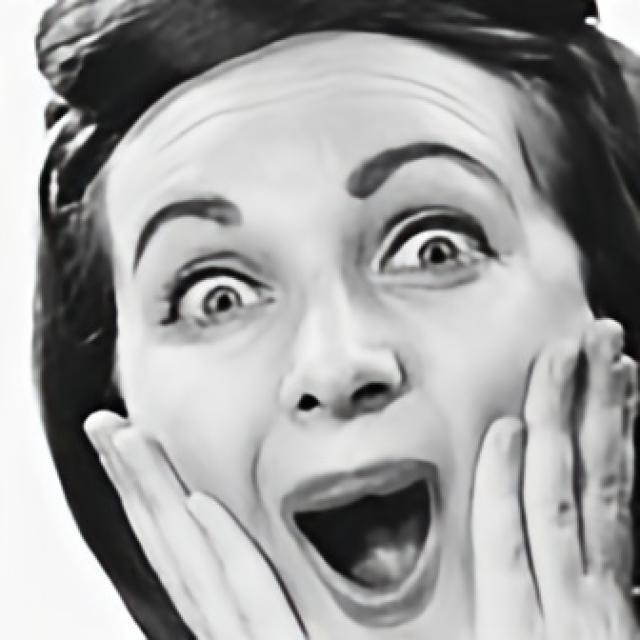surprise: (114, 27, 574, 638)
